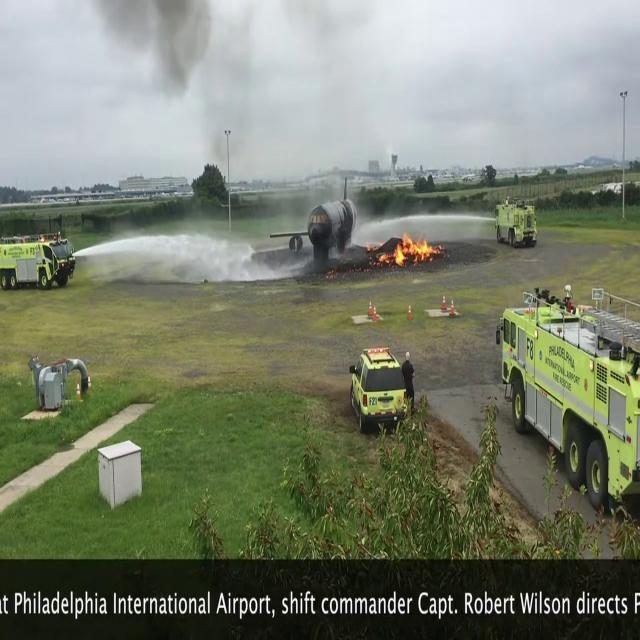Fire: (389, 225, 441, 267)
Smoke: (98, 0, 236, 123)
